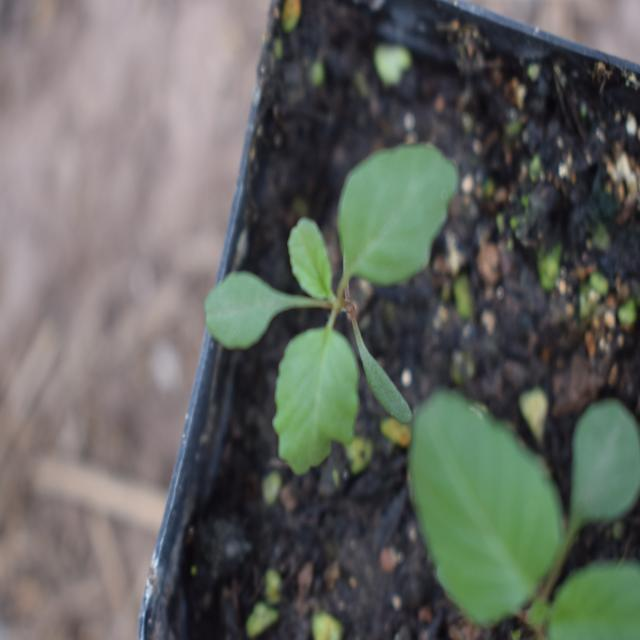pigweed: (200, 147, 458, 496)
